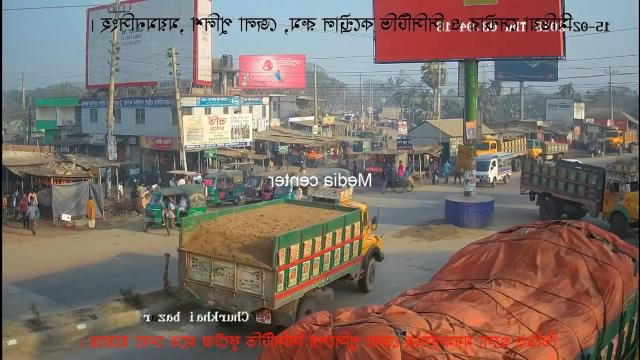truck: (175, 192, 384, 338), (520, 148, 640, 236), (474, 154, 517, 189), (475, 128, 530, 155), (596, 122, 639, 155), (525, 131, 571, 160)
